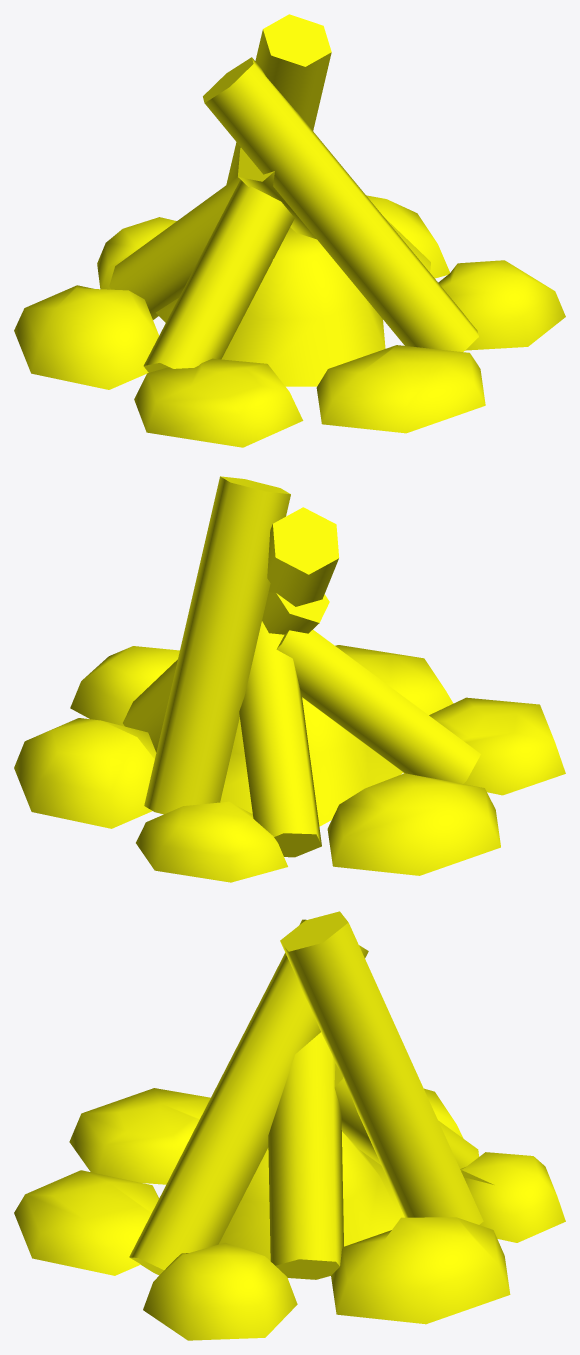
The picture shows the model from 3 angles, top to bottom: view 1: azimuth 30°, elevation 25°; view 2: azimuth 150°, elevation 25°; view 3: azimuth 270°, elevation 25°; orthographic projection. The views are drawn at different scales.
Visible parts, largest first — view 1: bonfire; view 2: bonfire; view 3: bonfire.
Part boxes in pixels (<box>): bonfire: <box>14,14,565,447</box>; bonfire: <box>14,476,565,882</box>; bonfire: <box>14,911,565,1340</box>.
Size of the model in its own units: 0.0136 by 0.00887 by 0.0133.
Materials: 1 (1 with a texture image).
